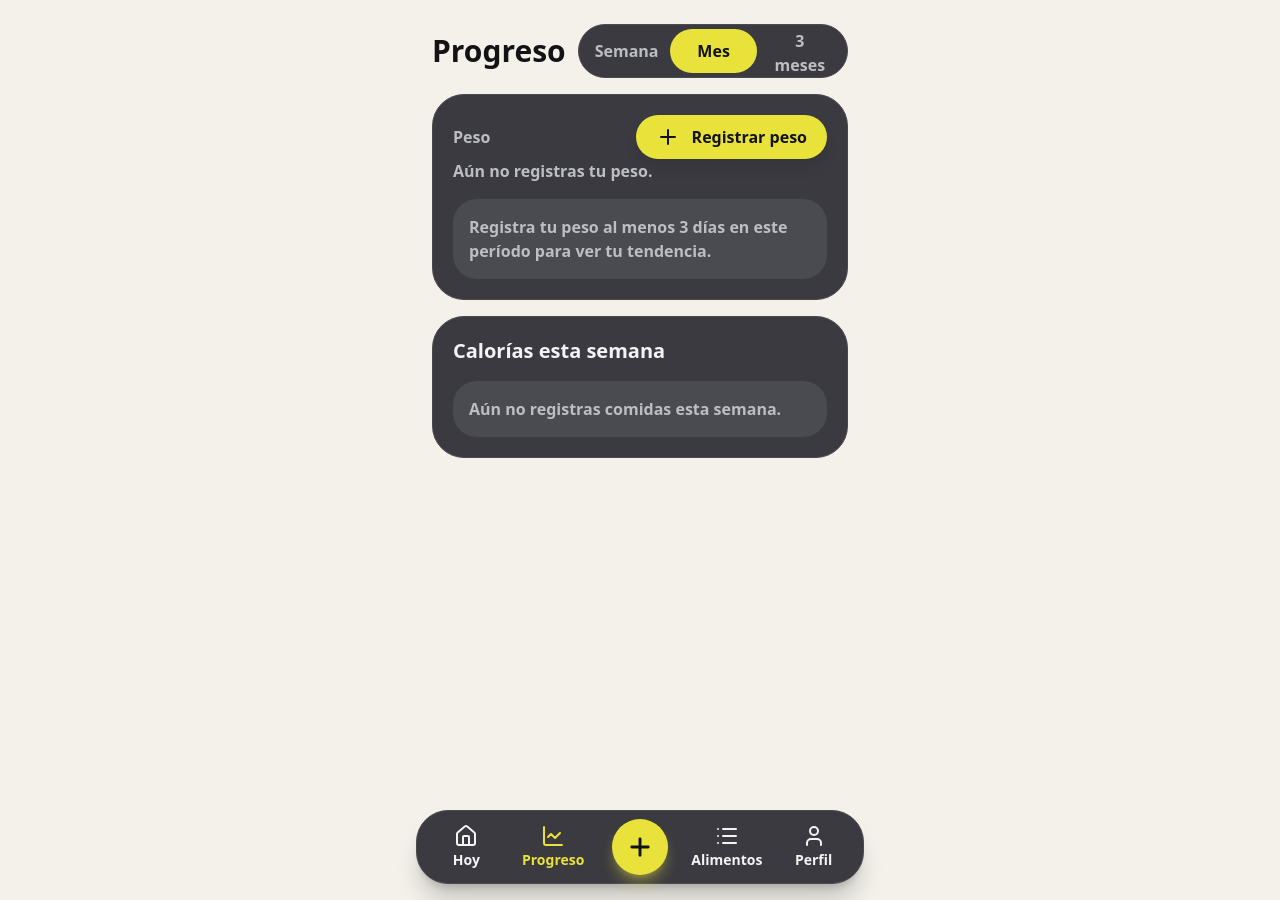
Test: ProgressPage › Registrar peso › rejects a weight outside 30–300 kg (HU-13 CA2)
Click the button "Registrar peso".
click(731, 137)  # box [636,115,827,159]
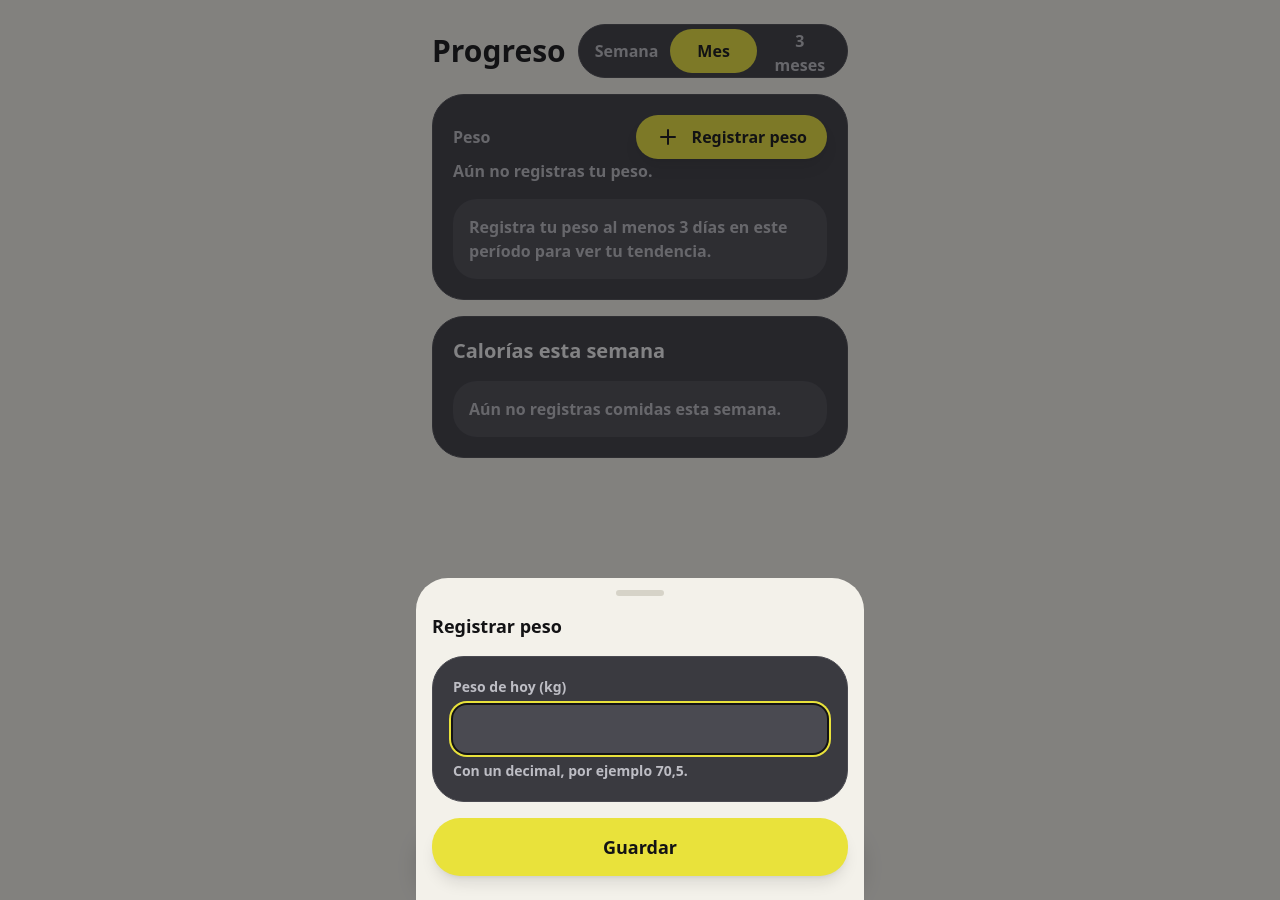
Type "25" into the field labelled "Peso de hoy (kg)".
click(640, 729); type("25")  # box [453,705,827,753]
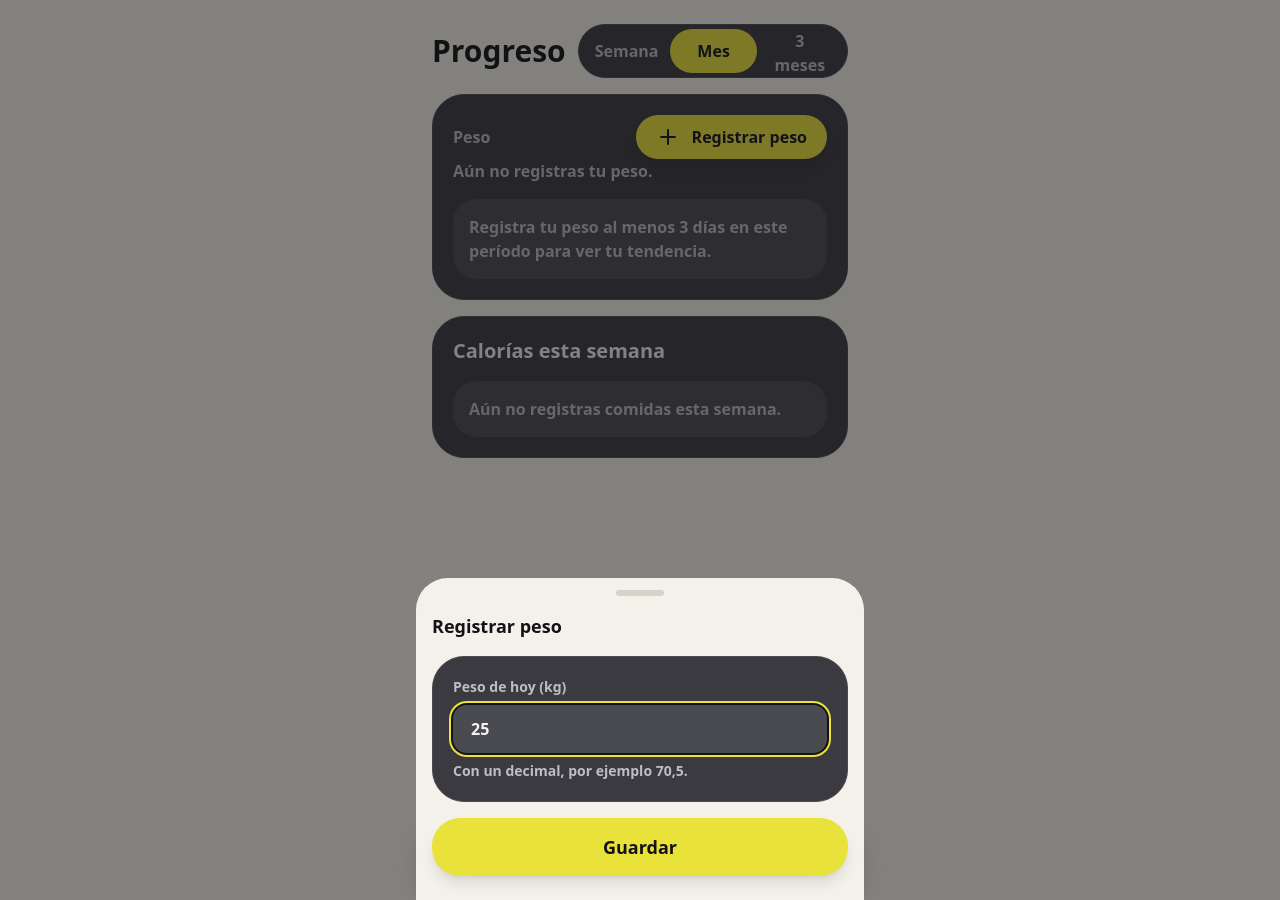
Click the button "Guardar".
click(640, 847)  # box [432,818,848,876]
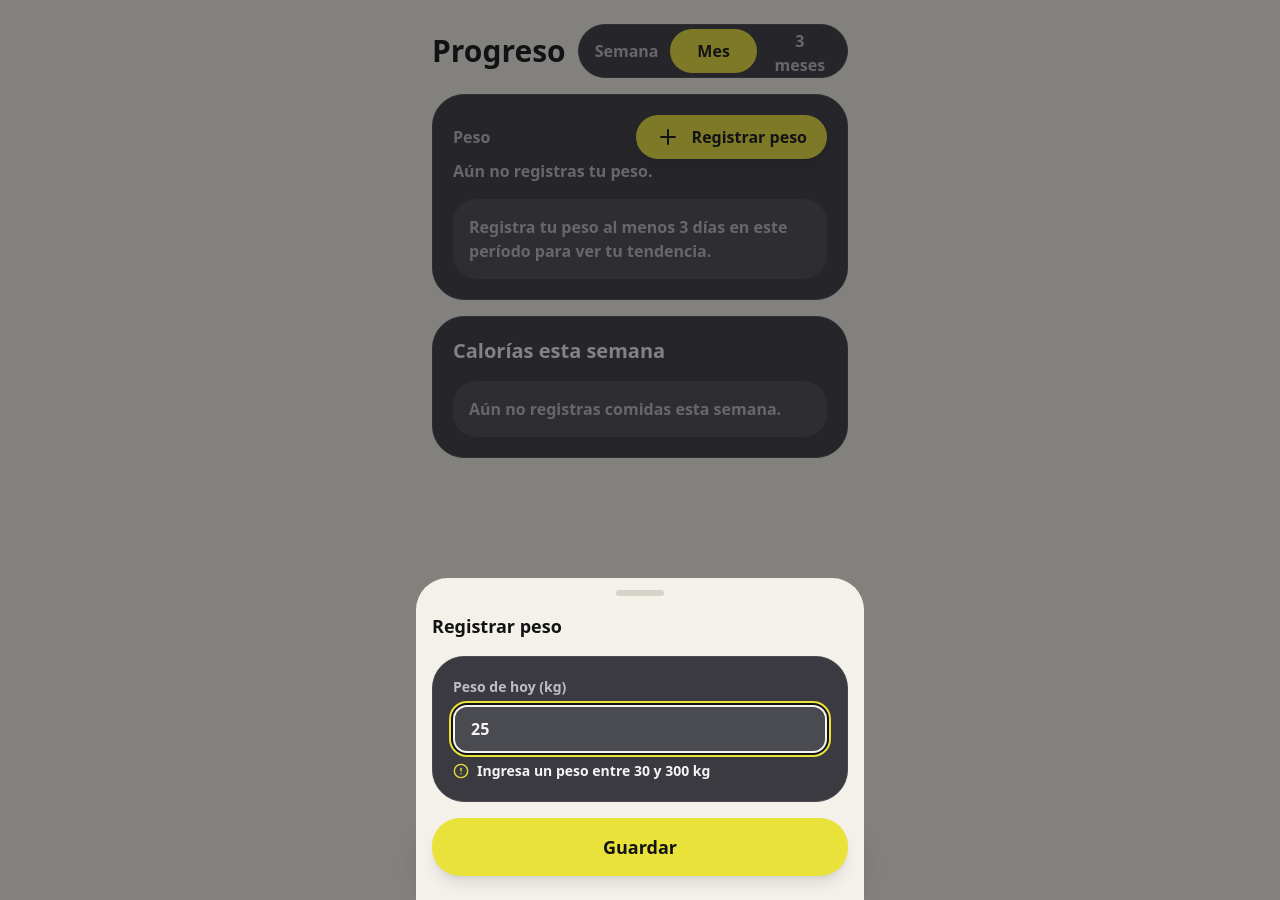
Expected: the text "Ingresa un peso entre 30 y 300 kg" is shown, [453,761,710,780]
